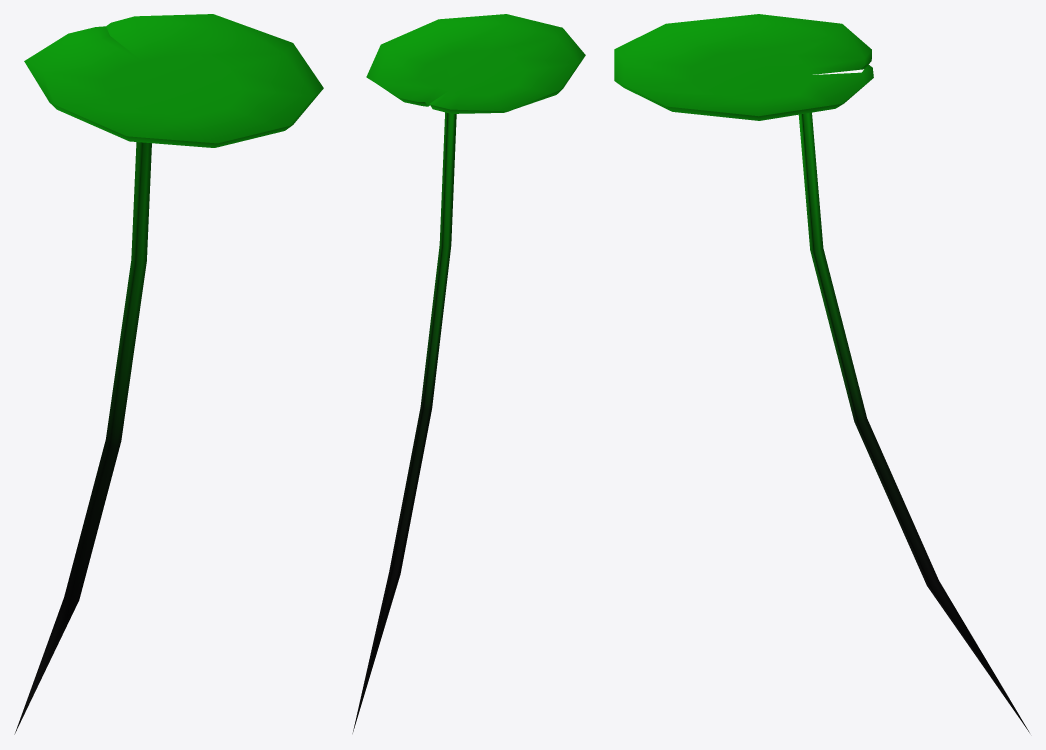
Rendered from IL3DN_Plant_WaterLily_01.fbx.
3 views of the same model, side by side, from view 1: azimuth 30°, elevation 25°; view 2: azimuth 150°, elevation 25°; view 3: azimuth 270°, elevation 25° (orthographic). The views are drawn at different scales.
Visible parts, largest first — view 1: IL3DN_Plant_WaterLily_01_LOD0; view 2: IL3DN_Plant_WaterLily_01_LOD0; view 3: IL3DN_Plant_WaterLily_01_LOD0.
Part boxes in pixels (box(x1,y1,x2,y2)): IL3DN_Plant_WaterLily_01_LOD0: box(14, 14, 323, 734); IL3DN_Plant_WaterLily_01_LOD0: box(352, 14, 585, 733); IL3DN_Plant_WaterLily_01_LOD0: box(614, 14, 1029, 732).
Size of what is drawn, in the model's own units: 12.27 by 37.55 by 21.18.
